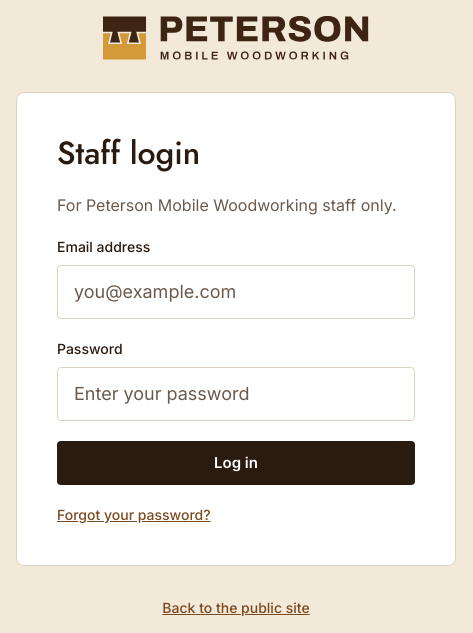
App › opens the forgot password page from staff login, without the public header
Click the link "Forgot your password?".
click(134, 514)  # box [57,506,211,523]
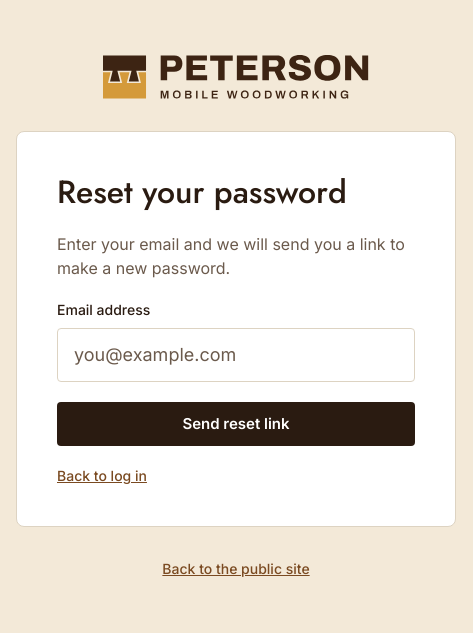
expect the heading "Reset your password" is shown: met, box [57,169,347,215]
